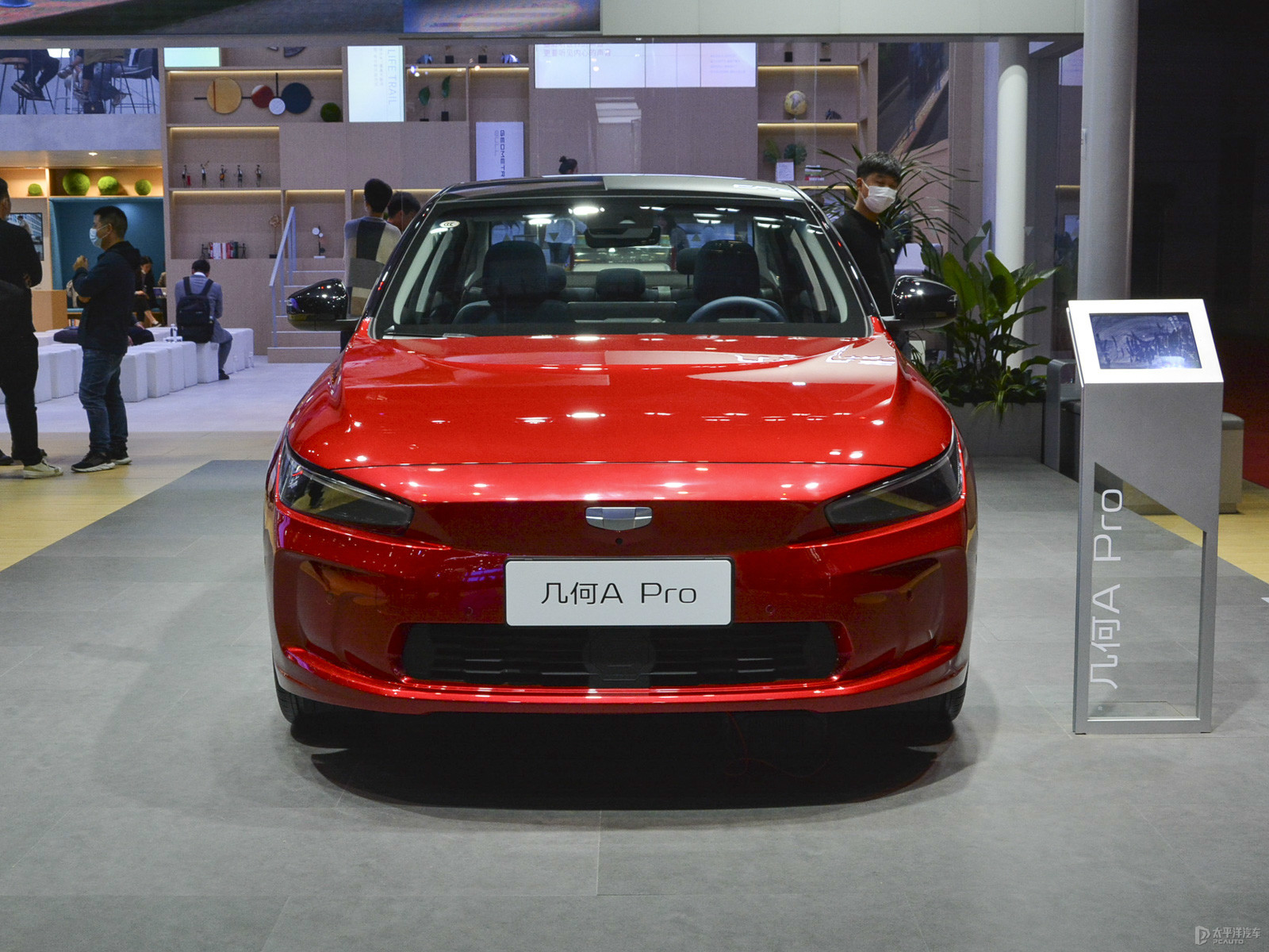GEOMETRY: (586, 508, 651, 531)
